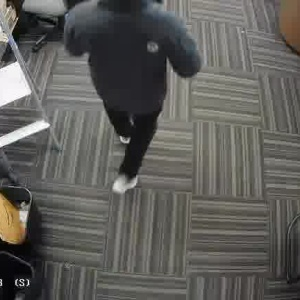person: (74, 0, 180, 182)
